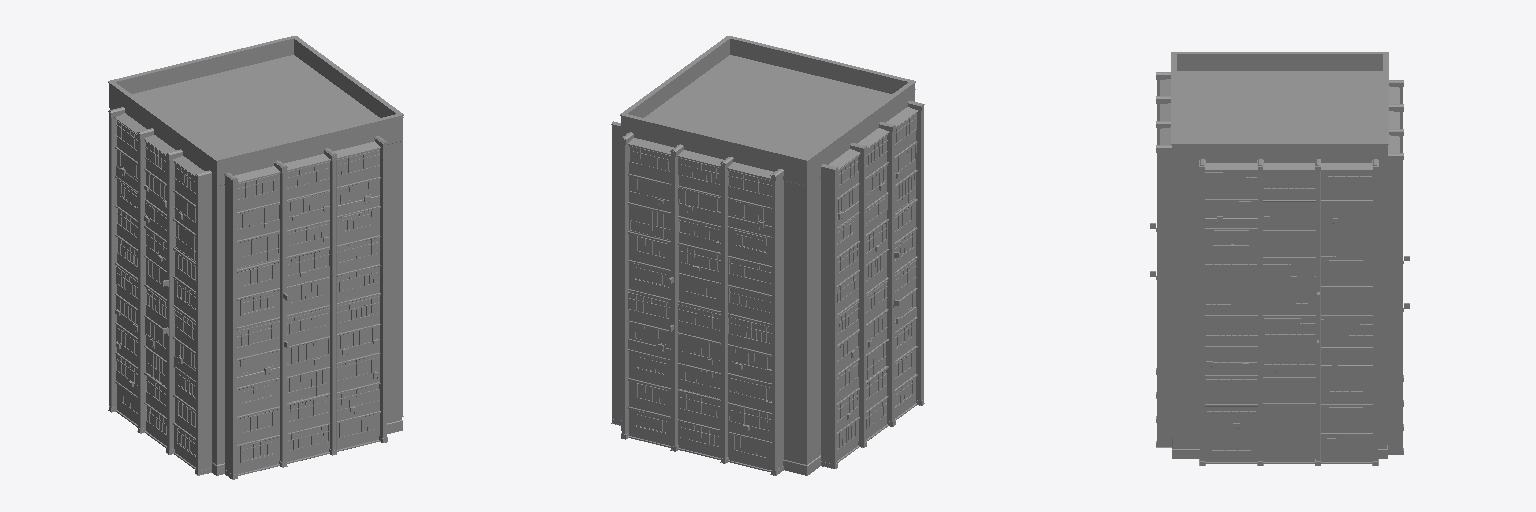
Rendered from edificiob.obj.
3 renders of one model, left to right at view 1: azimuth 30°, elevation 25°; view 2: azimuth 150°, elevation 25°; view 3: azimuth 270°, elevation 25°, orthographic.
Visible parts, largest first — view 1: Panel_House_Wikipedia_of_Russia_01_01; view 2: Panel_House_Wikipedia_of_Russia_01_01; view 3: Panel_House_Wikipedia_of_Russia_01_01.
Part boxes in pixels (x1,y1,x2,y2): Panel_House_Wikipedia_of_Russia_01_01: (108,36,403,479); Panel_House_Wikipedia_of_Russia_01_01: (611,36,924,475); Panel_House_Wikipedia_of_Russia_01_01: (1150,52,1409,465).
Bounding box in the file's own units: 6.76 × 9.05 × 6.76.